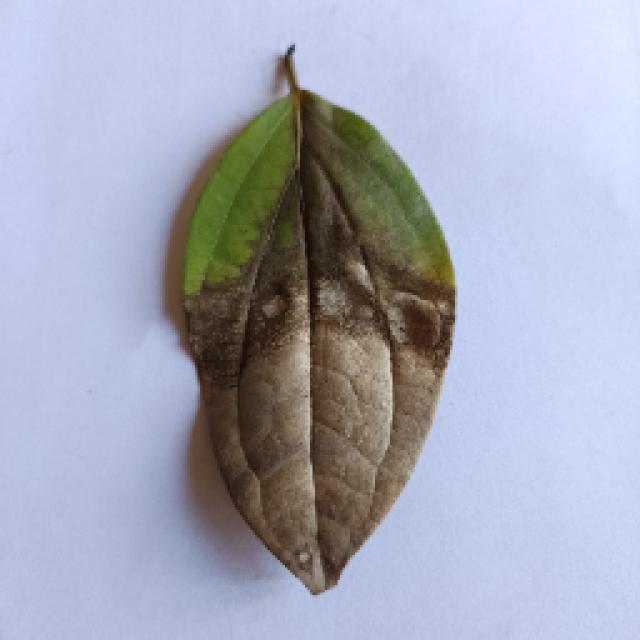footrot: (152, 50, 482, 590)
